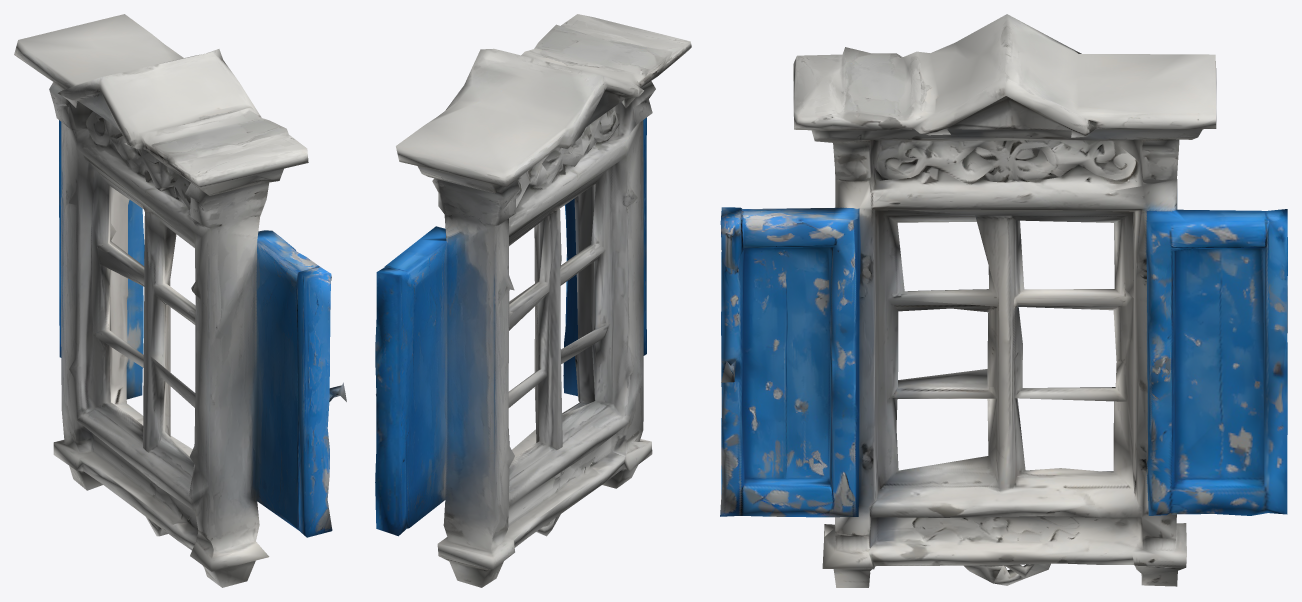
The model's file is kh_window.glb.
The picture shows the model from 3 angles, left to right: view 1: azimuth 30°, elevation 25°; view 2: azimuth 150°, elevation 25°; view 3: azimuth 270°, elevation 25°; orthographic projection. The views are drawn at different scales.
Parts seen in each view (by area): view 1: tripo_node_3e0b6b3c-ba53-4237-ab3f-54eec66766c8; view 2: tripo_node_3e0b6b3c-ba53-4237-ab3f-54eec66766c8; view 3: tripo_node_3e0b6b3c-ba53-4237-ab3f-54eec66766c8.
Part boxes in pixels (x1=…): tripo_node_3e0b6b3c-ba53-4237-ab3f-54eec66766c8: x1=14, y1=14, x2=346, y2=587; tripo_node_3e0b6b3c-ba53-4237-ab3f-54eec66766c8: x1=375, y1=14, x2=691, y2=587; tripo_node_3e0b6b3c-ba53-4237-ab3f-54eec66766c8: x1=720, y1=14, x2=1287, y2=587.
Bounding box in the file's own units: 0.2883 × 1 × 0.9517.
Materials: 1 (1 with a texture image).
